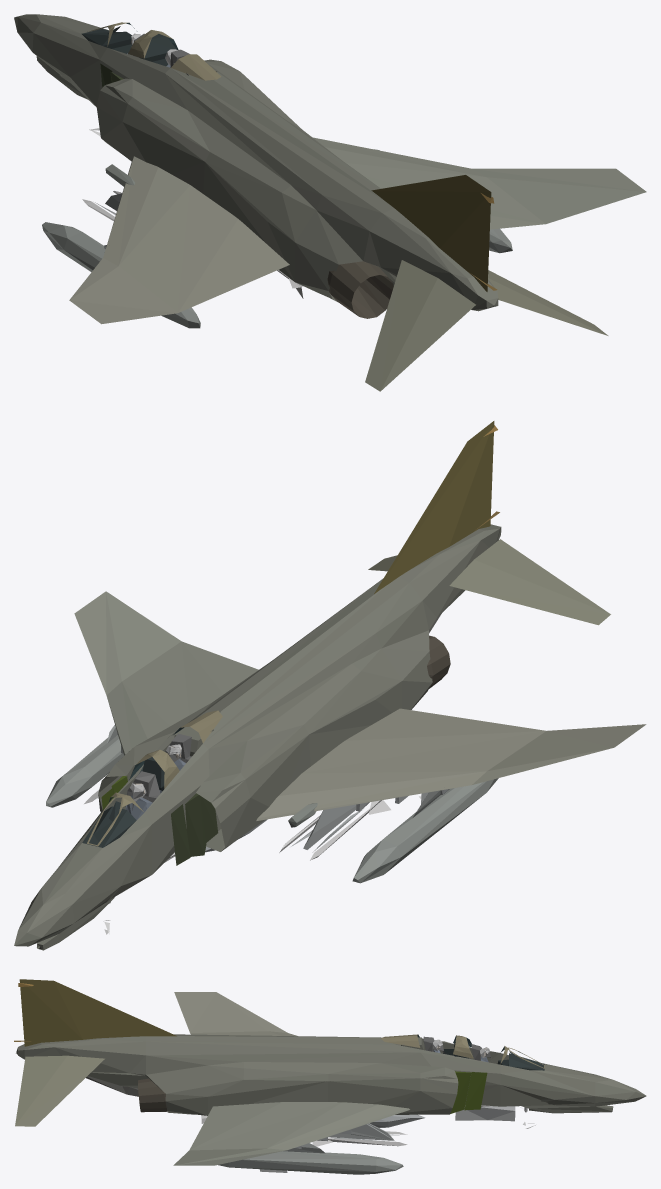
The picture shows the model from 3 angles, top to bottom: view 1: azimuth 30°, elevation 25°; view 2: azimuth 150°, elevation 25°; view 3: azimuth 270°, elevation 25°; orthographic projection. The views are drawn at different scales.
Parts seen in each view (by area): view 1: body; view 2: body; view 3: body.
Part boxes in pixels (left/top/right/bottom): body: left=14, top=14, right=646, bottom=391; body: left=14, top=421, right=646, bottom=950; body: left=14, top=979, right=646, bottom=1174.
Size of the model in its own units: 11.76 by 4.8 by 18.1.
